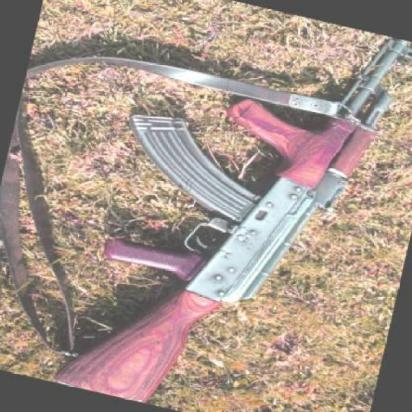Gun: (44, 0, 412, 412)
